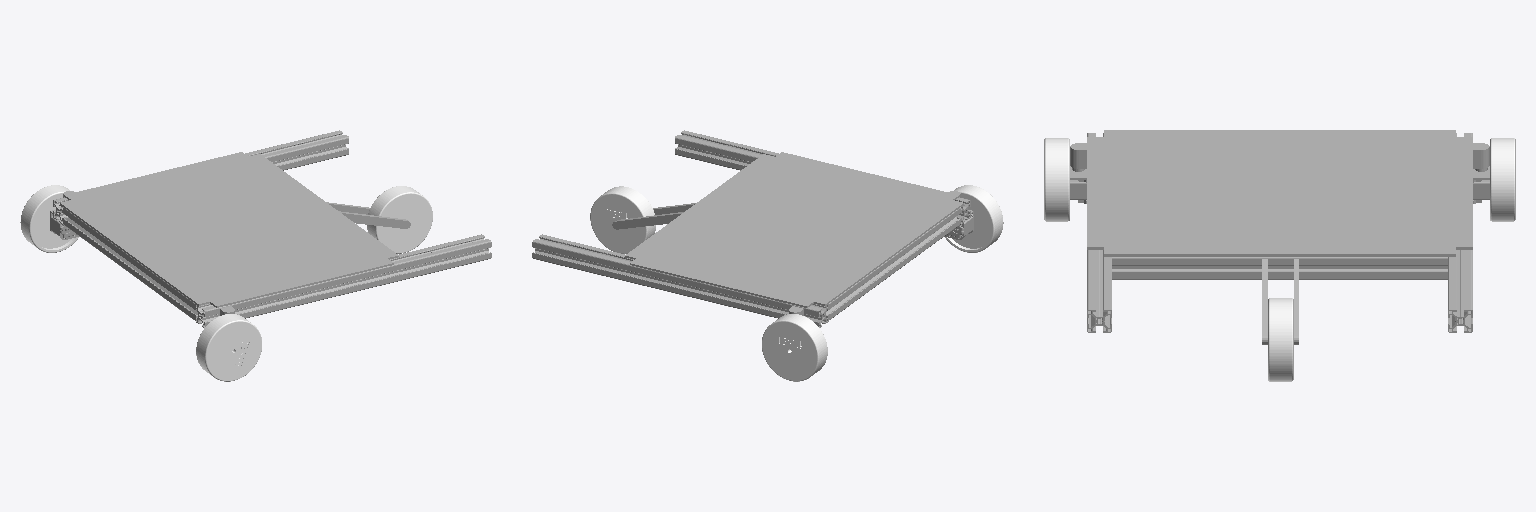
The robot description file, URDF, robot "New":
<?xml version="1.0" encoding="utf-8"?>
<!-- This URDF was automatically created by SolidWorks to URDF Exporter! Originally created by [author] ([email redacted]) 
     Commit Version: 1.5.1-0-g916b5db  Build Version: 1.5.7152.31018
     For more information, please see http://wiki.ros.org/sw_urdf_exporter -->
<robot
  name="New">
  <link
    name="base_link">
    <inertial>
      <origin
        xyz="-0.1649 0.26783 -0.02557"
        rpy="0 0 0" />
      <mass
        value="2.263" />
      <inertia
        ixx="0.01919"
        ixy="-1.5865E-18"
        ixz="1.2741E-05"
        iyy="0.023609"
        iyz="3.2969E-08"
        izz="0.042498" />
    </inertial>
    <visual>
      <origin
        xyz="0 0 0"
        rpy="0 0 0" />
      <geometry>
        <mesh
          filename="package://New/meshes/base_link.STL" />
      </geometry>
      <material
        name="">
        <color
          rgba="0.75294 0.75294 0.75294 1" />
      </material>
    </visual>
    <collision>
      <origin
        xyz="0 0 0"
        rpy="0 0 0" />
      <geometry>
        <mesh
          filename="package://New/meshes/base_link.STL" />
      </geometry>
    </collision>
  </link>
  <link
    name="Front">
    <inertial>
      <origin
        xyz="0.014985 -1.6627E-05 5.0633E-07"
        rpy="0 0 0" />
      <mass
        value="0.23852" />
      <inertia
        ixx="0.00029897"
        ixy="5.7566E-08"
        ixz="-1.7535E-09"
        iyy="0.00016728"
        iyz="-1.6076E-09"
        izz="0.00016725" />
    </inertial>
    <visual>
      <origin
        xyz="0 0 0"
        rpy="0 0 0" />
      <geometry>
        <mesh
          filename="package://New/meshes/Front.STL" />
      </geometry>
      <material
        name="">
        <color
          rgba="1 1 1 1" />
      </material>
    </visual>
    <collision>
      <origin
        xyz="0 0 0"
        rpy="0 0 0" />
      <geometry>
        <mesh
          filename="package://New/meshes/Front.STL" />
      </geometry>
    </collision>
  </link>
  <joint
    name="F"
    type="continuous">
    <origin
      xyz="0.11142 0.25386 -0.0645"
      rpy="1.5708 0 1.5708" />
    <parent
      link="base_link" />
    <child
      link="Front" />
    <axis
      xyz="1 0 0" />
    <limit
      effort="3.1"
      velocity="7" />
  </joint>
  <link
    name="Right">
    <inertial>
      <origin
        xyz="0.0006688 -2.0514E-05 6.2467E-07"
        rpy="0 0 0" />
      <mass
        value="0.19333" />
      <inertia
        ixx="0.00025298"
        ixy="4.6921E-08"
        ixz="-1.4293E-09"
        iyy="0.00013675"
        iyz="-1.608E-09"
        izz="0.00013672" />
    </inertial>
    <visual>
      <origin
        xyz="0 0 0"
        rpy="0 0 0" />
      <geometry>
        <mesh
          filename="package://New/meshes/Right.STL" />
      </geometry>
      <material
        name="">
        <color
          rgba="1 1 1 1" />
      </material>
    </visual>
    <collision>
      <origin
        xyz="0 0 0"
        rpy="0 0 0" />
      <geometry>
        <mesh
          filename="package://New/meshes/Right.STL" />
      </geometry>
    </collision>
  </link>
  <joint
    name="R"
    type="continuous">
    <origin
      xyz="-0.3406 0 -0.064801"
      rpy="-0.3918 0 -1.5708" />
    <parent
      link="base_link" />
    <child
      link="Right" />
    <axis
      xyz="1 0 0" />
    <limit
      effort="3.1"
      velocity="7" />
  </joint>
  <link
    name="Left">
    <inertial>
      <origin
        xyz="0.017669 -2.0514E-05 6.2467E-07"
        rpy="0 0 0" />
      <mass
        value="0.19333" />
      <inertia
        ixx="0.00025298"
        ixy="4.6921E-08"
        ixz="-1.4293E-09"
        iyy="0.00013675"
        iyz="-1.608E-09"
        izz="0.00013672" />
    </inertial>
    <visual>
      <origin
        xyz="0 0 0"
        rpy="0 0 0" />
      <geometry>
        <mesh
          filename="package://New/meshes/Left.STL" />
      </geometry>
      <material
        name="">
        <color
          rgba="1 1 1 1" />
      </material>
    </visual>
    <collision>
      <origin
        xyz="0 0 0"
        rpy="0 0 0" />
      <geometry>
        <mesh
          filename="package://New/meshes/Left.STL" />
      </geometry>
    </collision>
  </link>
  <joint
    name="L"
    type="continuous">
    <origin
      xyz="-0.3406 0.5185 -0.064799"
      rpy="1.5708 0 1.5708" />
    <parent
      link="base_link" />
    <child
      link="Left" />
    <axis
      xyz="1 0 0" />
    <limit
      effort="3.1"
      velocity="7" />
  </joint>
</robot>

--- Facts derived from the render (not from the file) ---
3 views of the same robot in one strip: view 1: azimuth 30°, elevation 25°; view 2: azimuth 150°, elevation 25°; view 3: azimuth 270°, elevation 25° (orthographic).
Robot: New — 4 links, 3 joints (3 continuous); root link base_link; default pose: all joints at 0.
Visible links, largest first — view 1: base_link, Right, Front, Left; view 2: base_link, Left, Front, Right; view 3: base_link, Front, Right, Left.
Boxes of the visible links, x1,y1,x2,y2 form: base_link: [50, 130, 491, 327]; Right: [196, 314, 261, 381]; Front: [367, 186, 432, 253]; Left: [20, 185, 78, 252]; base_link: [532, 130, 973, 327]; Left: [762, 314, 827, 381]; Front: [590, 186, 655, 253]; Right: [945, 185, 1003, 252]; base_link: [1070, 130, 1489, 344]; Front: [1268, 298, 1293, 381]; Right: [1044, 138, 1069, 221]; Left: [1490, 138, 1515, 221].
Size in the robot's own frame: 0.552 by 0.5615 by 0.1048 metres.
4 mesh visuals loaded from 4 distinct referenced files (4 binary STL).